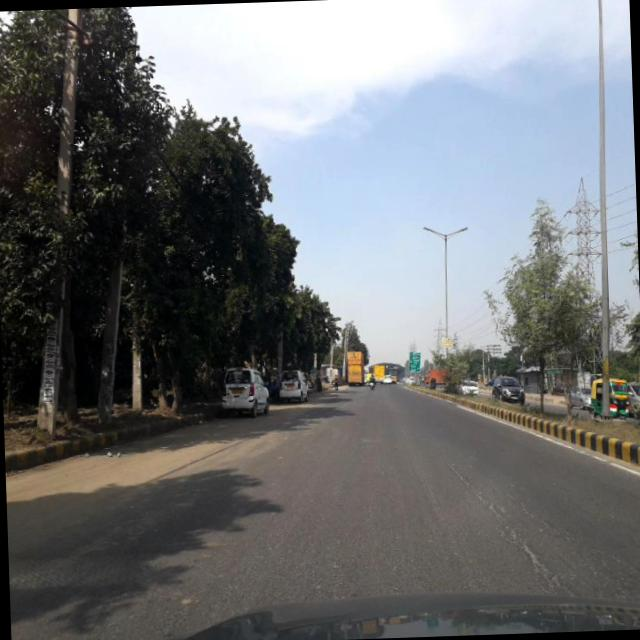pothole: (436, 442, 528, 522), (508, 516, 574, 596)
